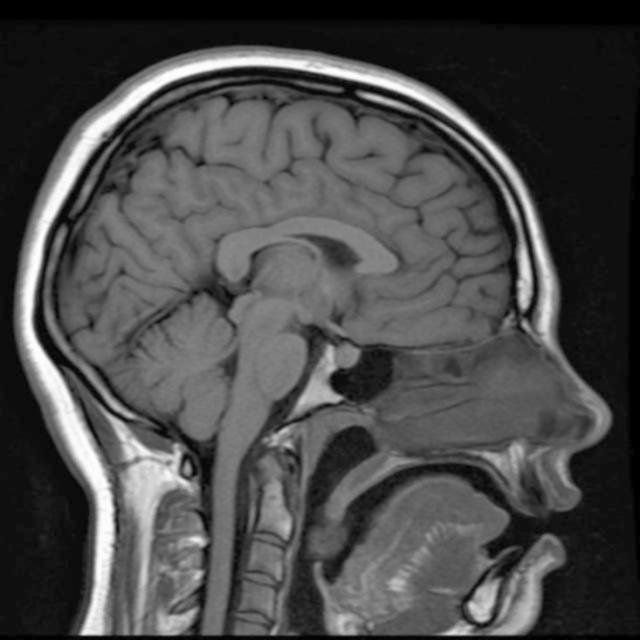glioma tumor: (89, 108, 503, 457)
